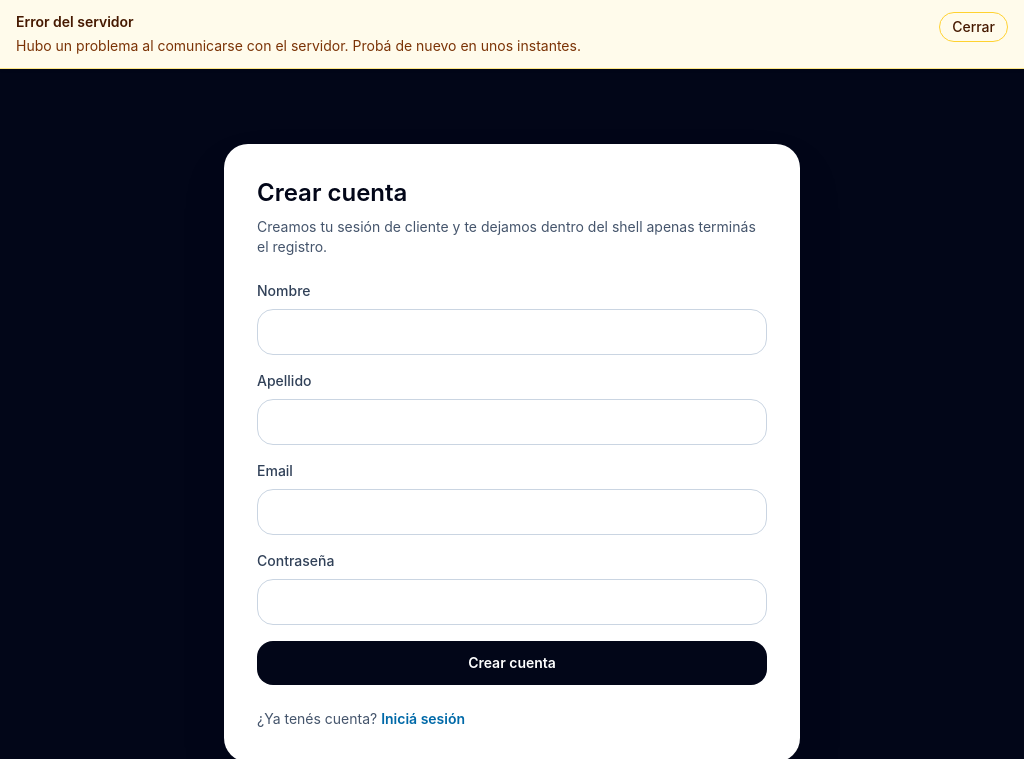
Scenario: Auth flows › registers successfully, stores the returned session and redirects to the shell
Type "Grace" into the field labelled "Nombre" at [512, 332], box [257, 309, 767, 355]
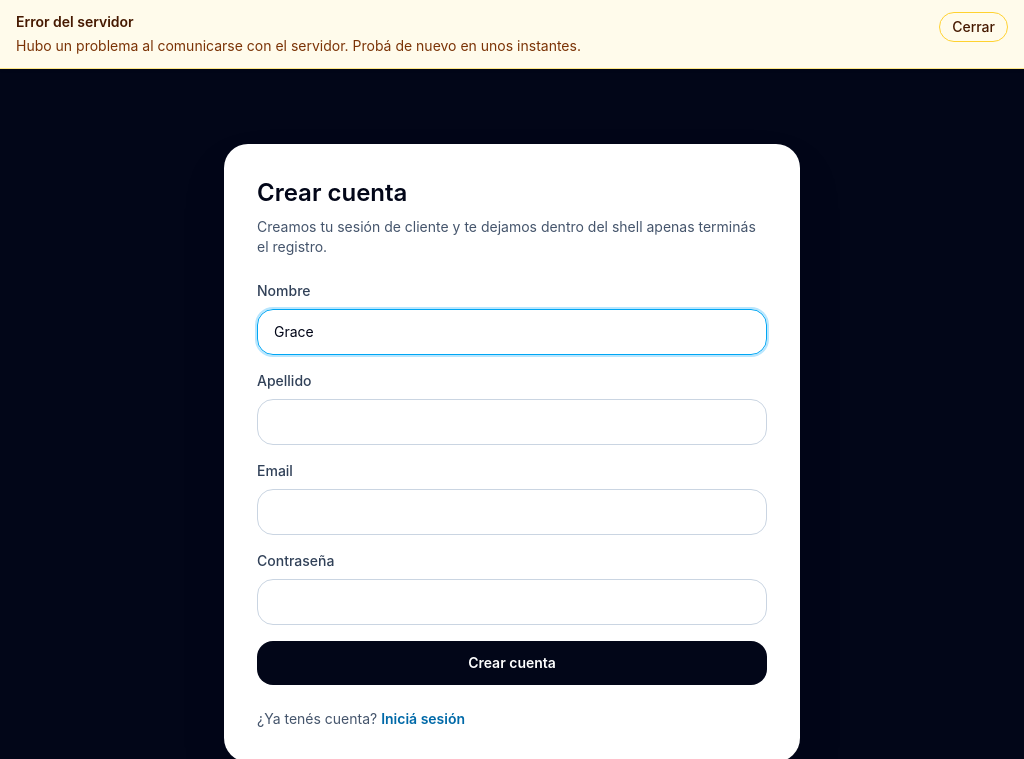
Type "Hopper" into the field labelled "Apellido" at [512, 422], box [257, 399, 767, 445]
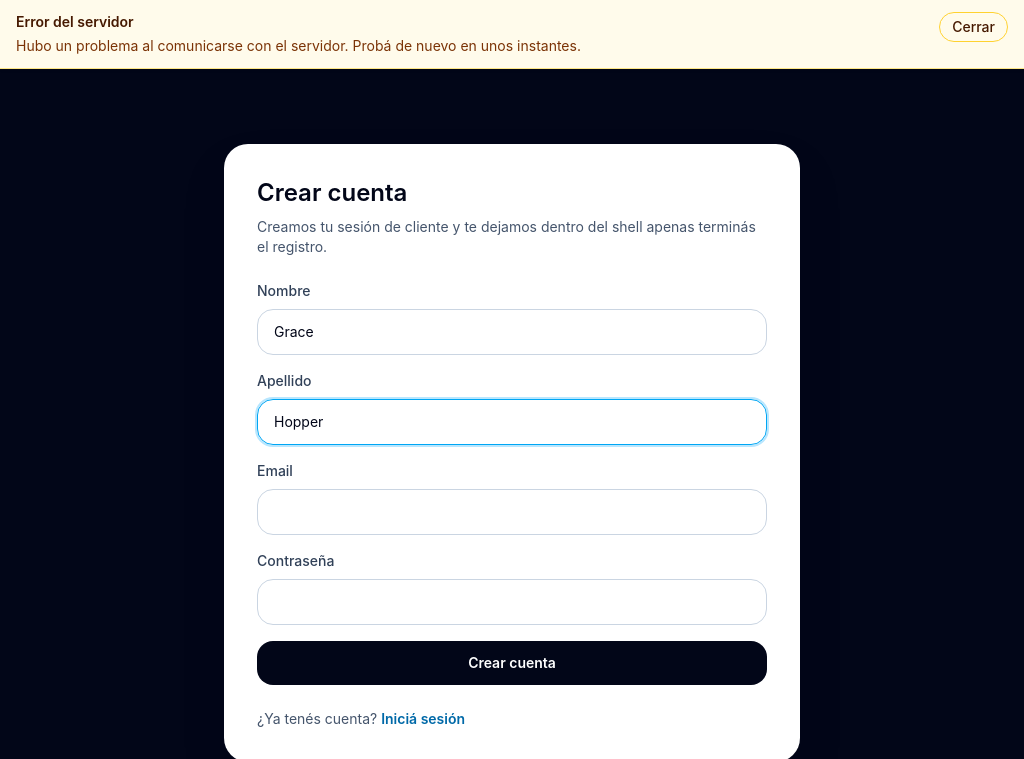
Type "grace@example.com" into the field labelled "Email" at [512, 512], box [257, 489, 767, 535]
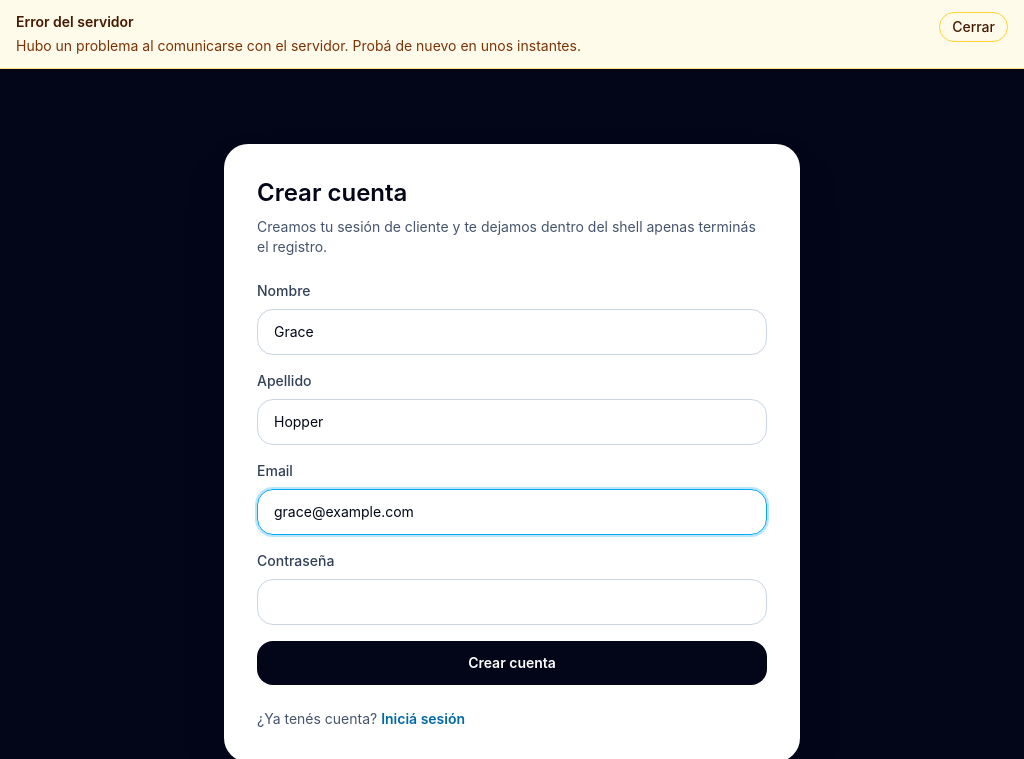
Type "StrongPass123!" into the password field labelled "Contraseña" at [512, 602], box [257, 579, 767, 625]
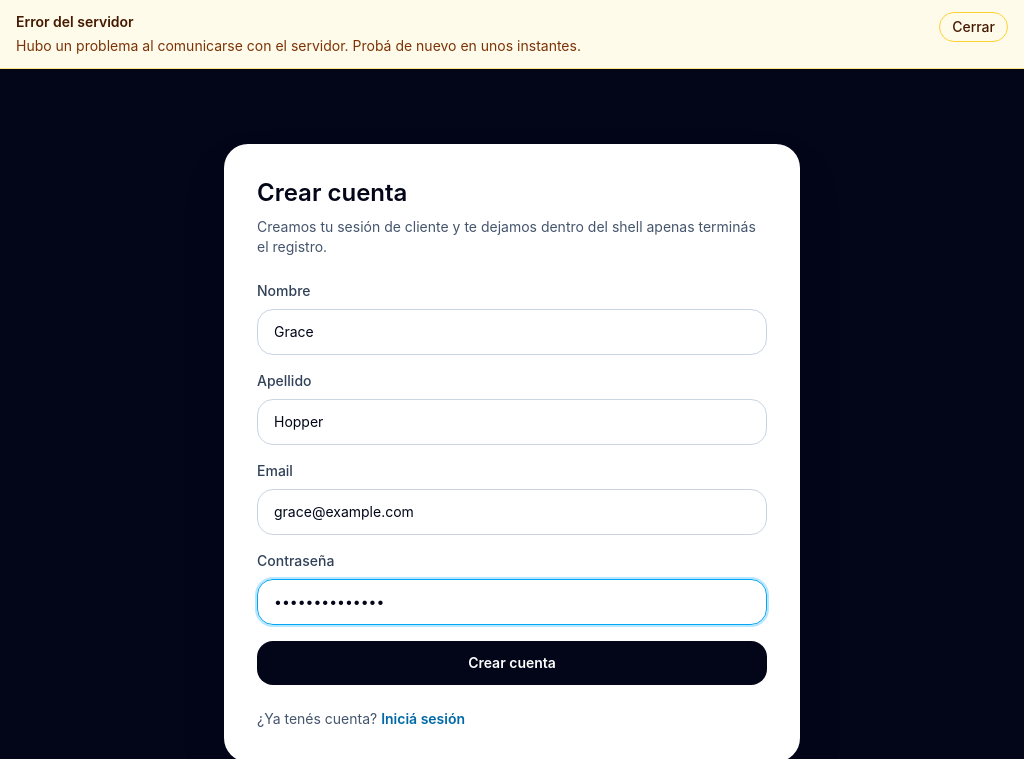
Click the button "Crear cuenta" at [512, 663], box [257, 641, 767, 685]
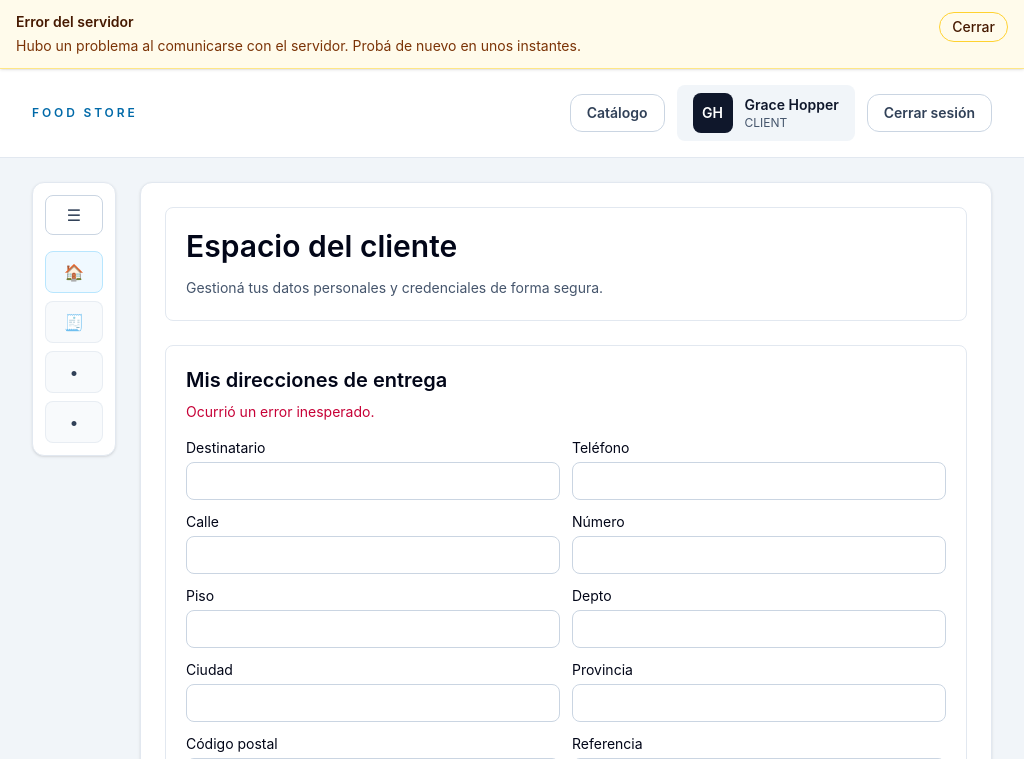
Result: the heading "Espacio del cliente" is shown at [186, 228, 457, 264]
